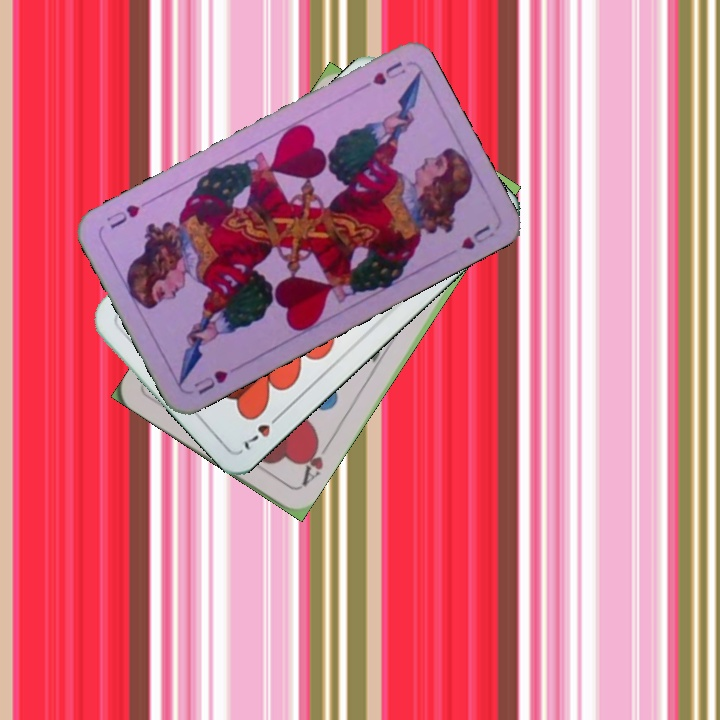H7: (239, 408, 286, 453)
HA: (295, 434, 333, 490)
HU: (354, 57, 409, 94), (190, 366, 230, 398)
